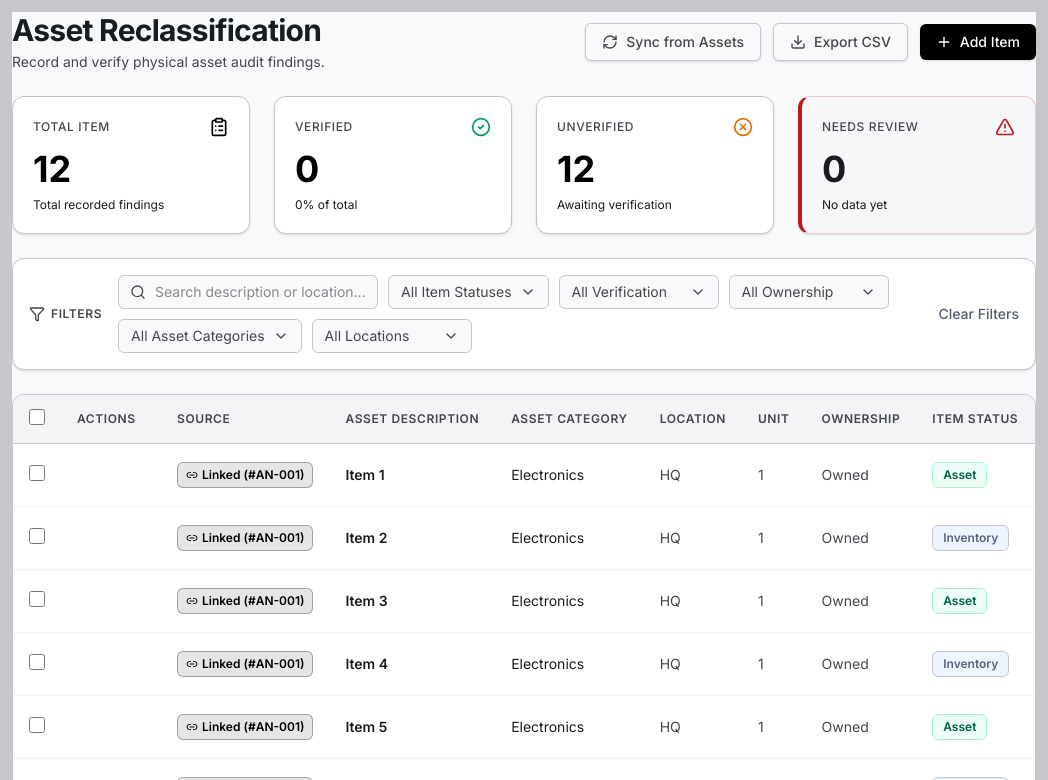
Reclassification — row selection › unchecking select-all clears the whole selection
Click the checkbox next to "Actions" at {"x": 37, "y": 417}, box 29,409 -> 45,425
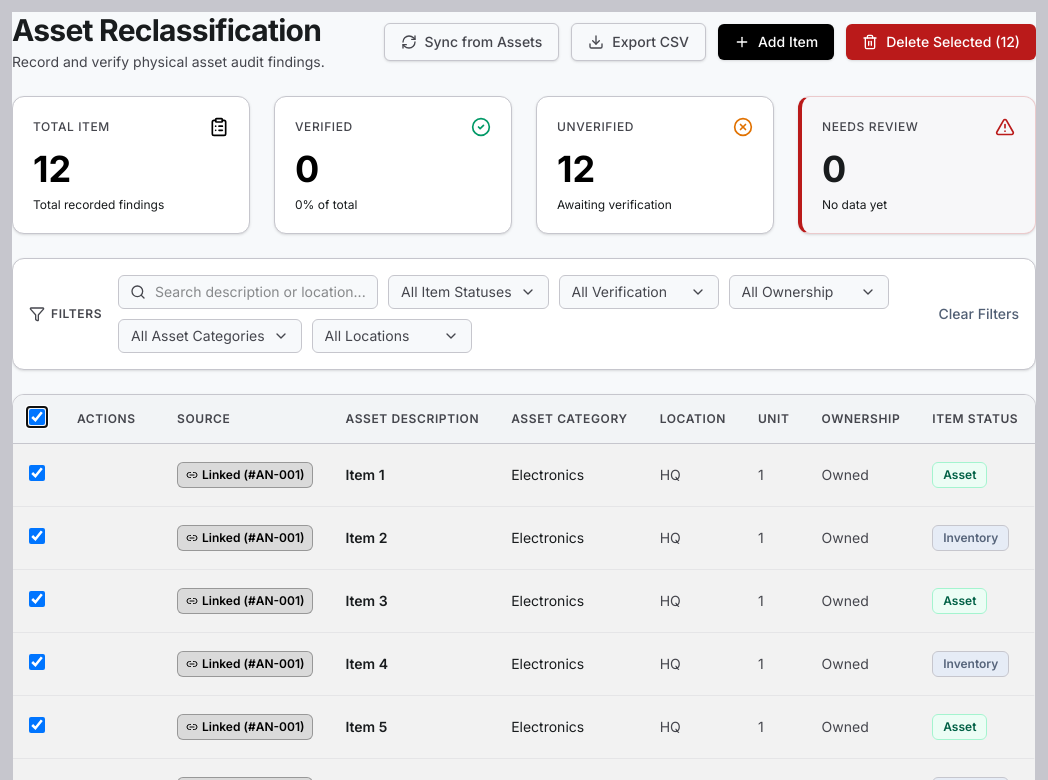
Click the checkbox next to "Actions" at {"x": 37, "y": 417}, box 29,409 -> 45,425
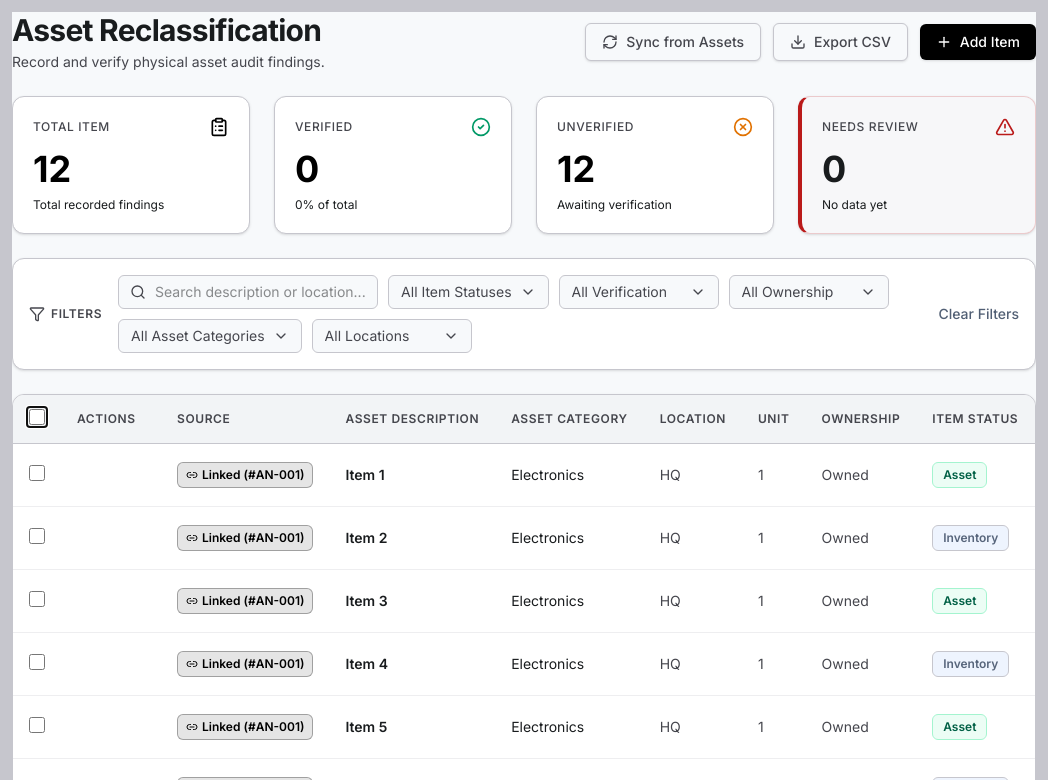
expect the button "Delete Selected" is gone: met
